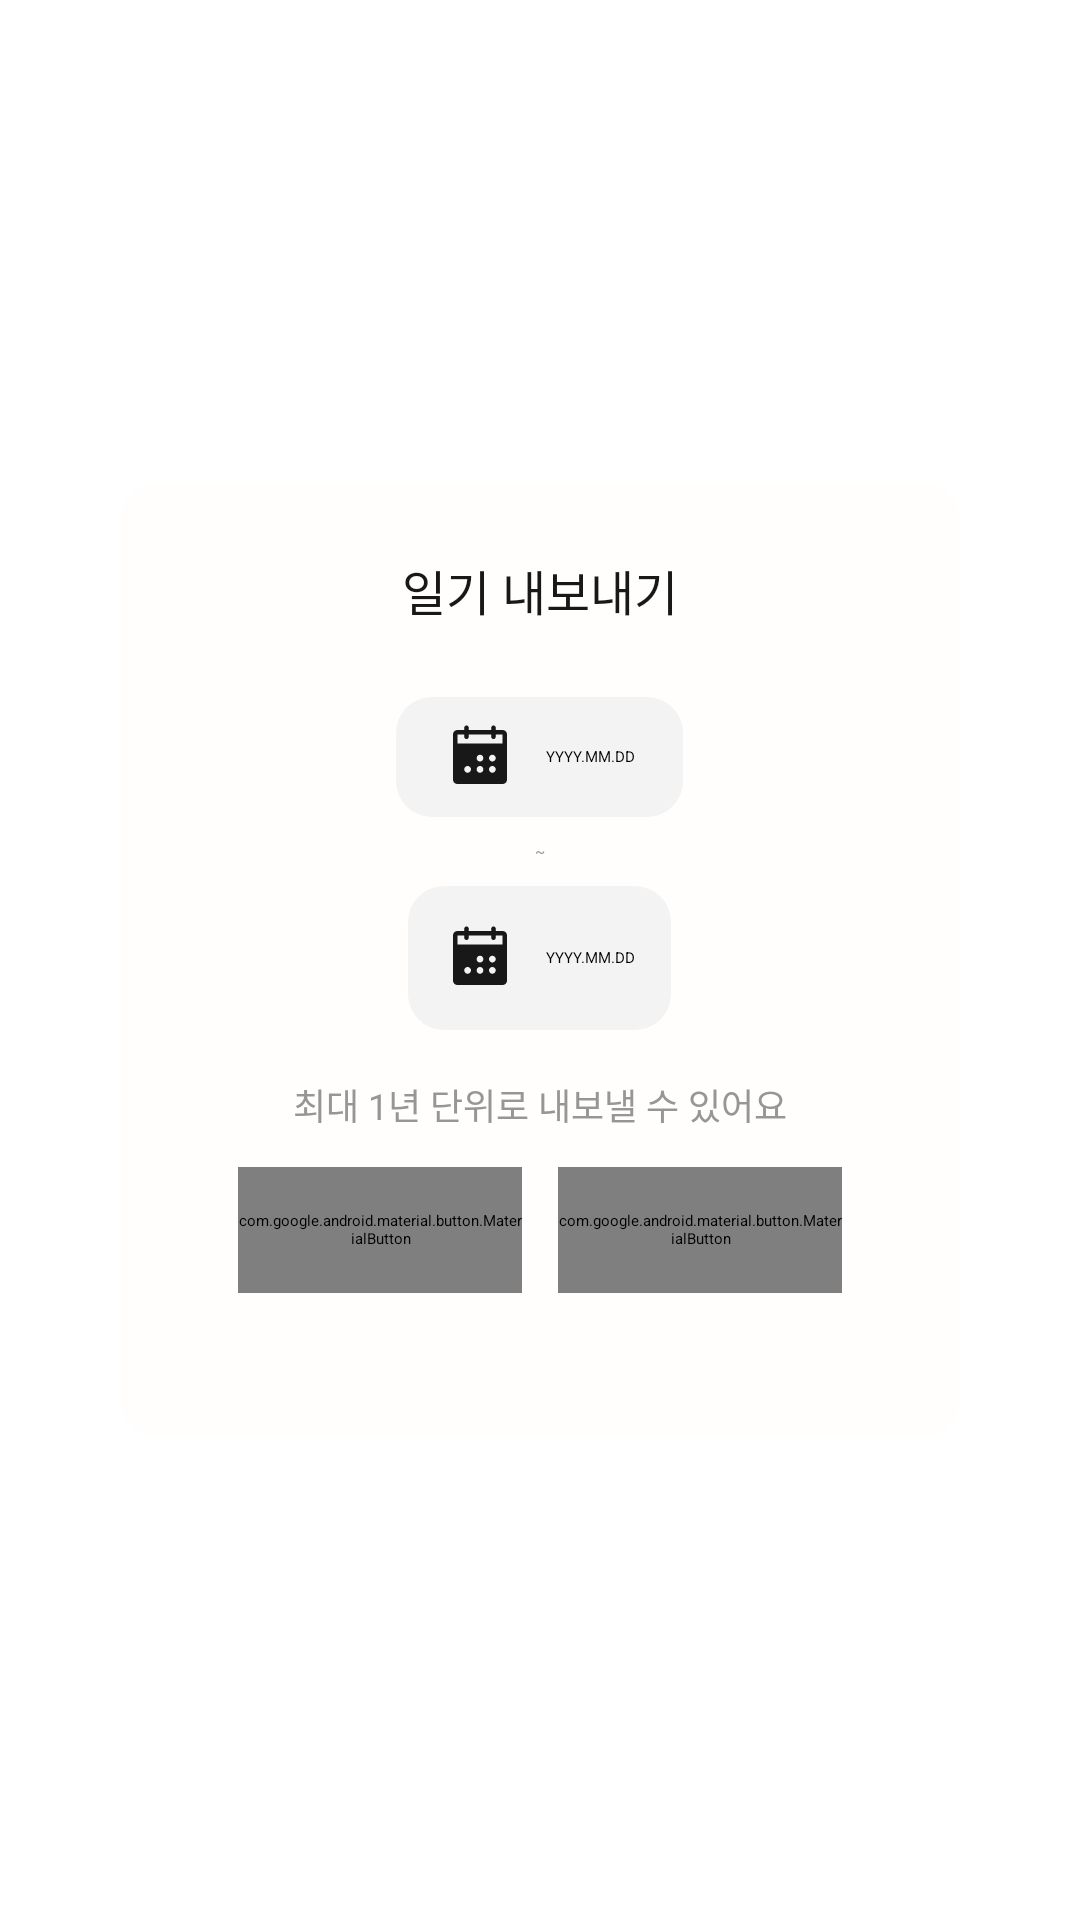

Where to tap for icons on this 1080 x 1920 app screen, as (x=x, y=y):
calendar: (x=480, y=754), (x=480, y=955)
